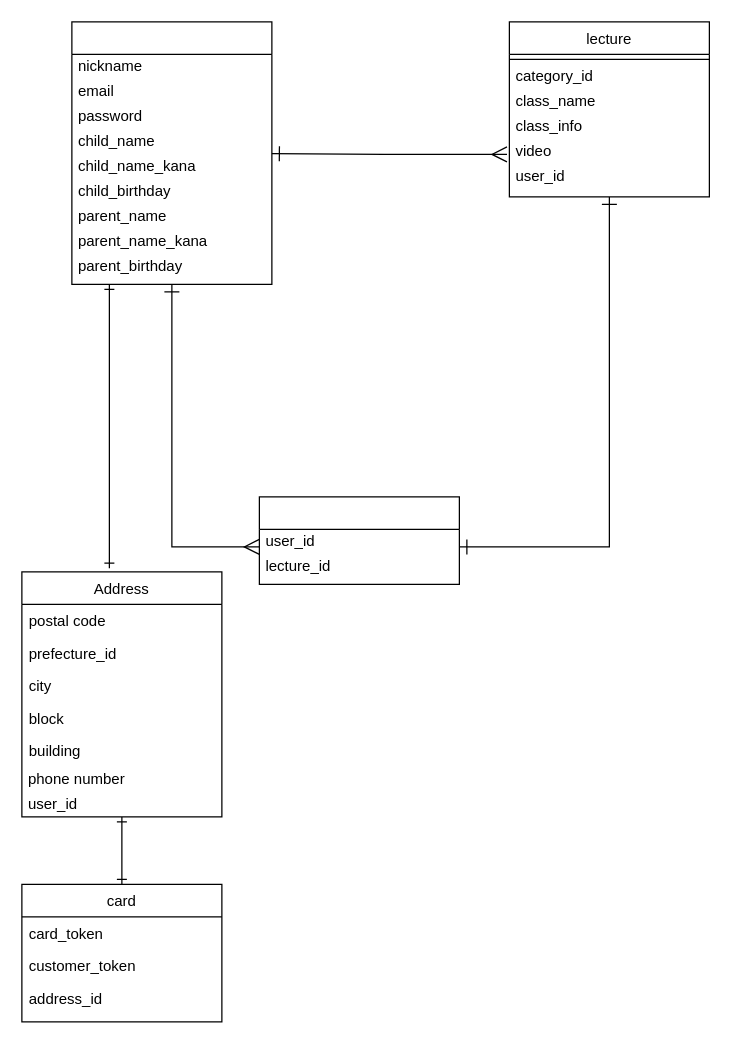
Some shapes in this 731 by 1044 pixel diagram are drawn without their labels. Each missing label, with the box of its shape:
orders: (258, 496, 459, 584)
users: (71, 21, 272, 284)
